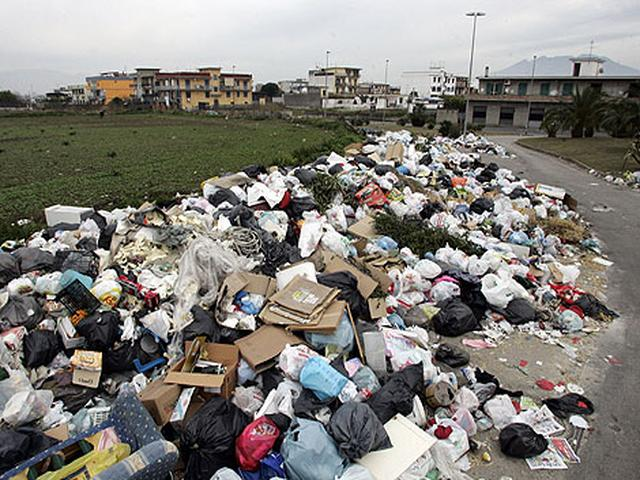garbage: (270, 171, 576, 480), (28, 252, 279, 439)
